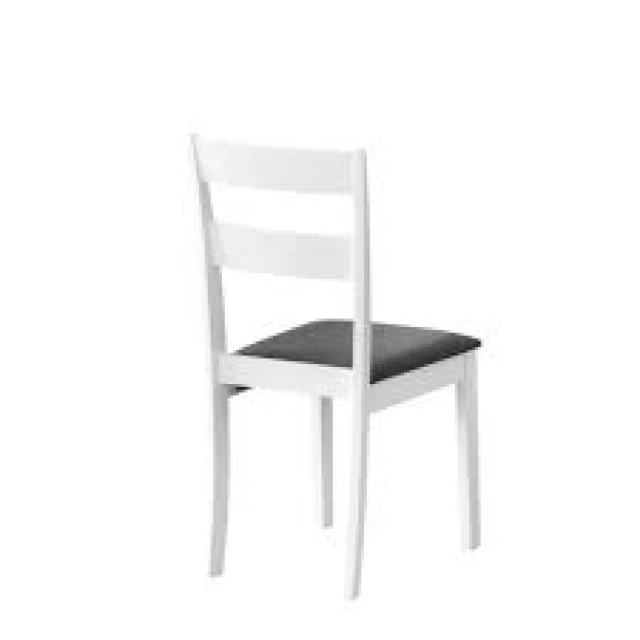bottle: (185, 120, 490, 608)
